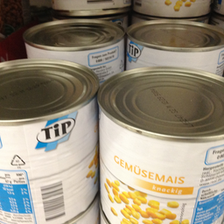corn: (95, 68, 224, 220), (1, 59, 98, 224)
